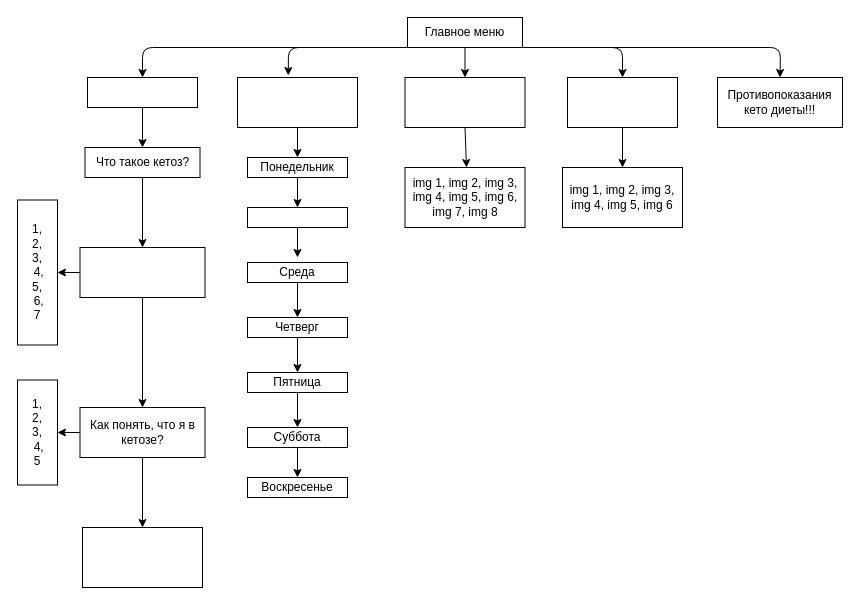
Some shapes in this 860 by 605 pixel diagram are drawn without their labels. Each missing label, with the centre of its shape:
"Возможные побочные эффекты кето диеты!" belongs at [142,557].
"Вторник" belongs at [297,217].
"Как быстро войти в кетоз?" belongs at [142,272].
"Какие продукты можно?" belongs at [464,102].
"Каких продуктов стоит избегать?" belongs at [622,102].
"Кето-меню на каждый день" belongs at [297,102].
"О кето диете" belongs at [142,92].
